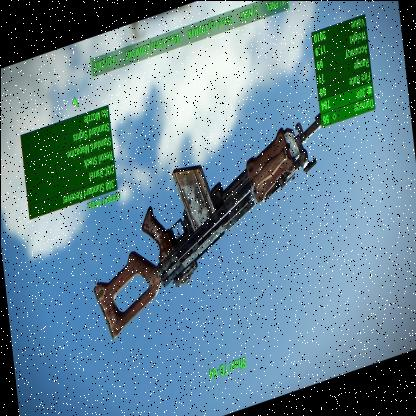rifle: (81, 105, 347, 350)
